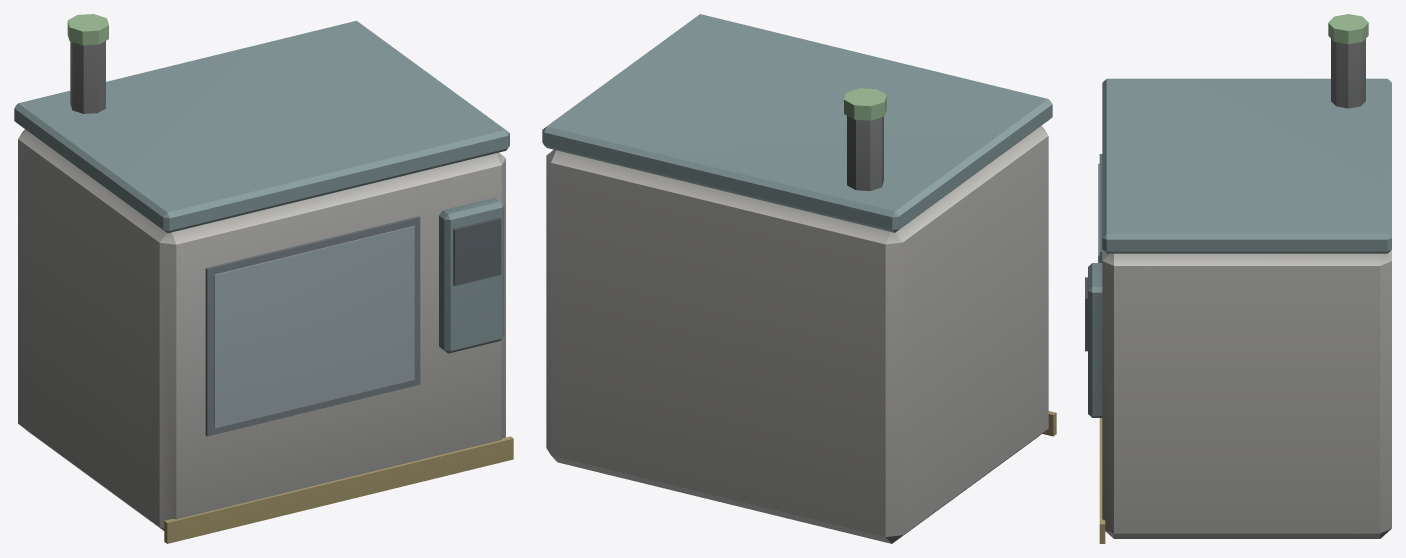
Rendered from int_cnc.glb.
3 views of the same model, side by side, from view 1: azimuth 30°, elevation 25°; view 2: azimuth 150°, elevation 25°; view 3: azimuth 270°, elevation 25° (orthographic). The views are drawn at different scales.
Visible parts, largest first — view 1: int_cnc; view 2: int_cnc; view 3: int_cnc.
Boxes of the visible parts, x1,y1,x2,y2 form: int_cnc: (14, 14, 513, 543); int_cnc: (542, 14, 1056, 543); int_cnc: (1085, 14, 1391, 543).
Bounding box in the file's own units: 2.6 × 2.95 × 2.12.
